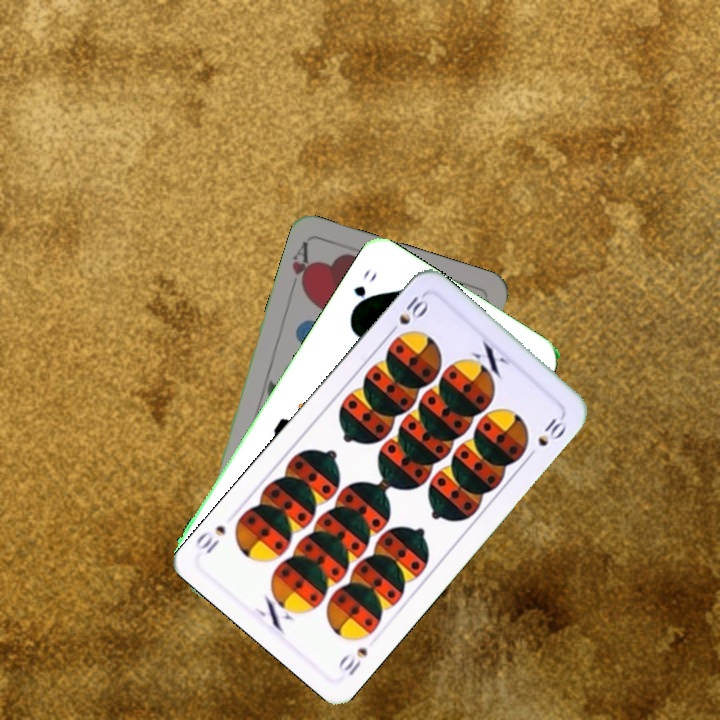GO: (347, 265, 380, 316)
HA: (287, 238, 315, 296)
S10: (384, 292, 431, 339), (334, 643, 370, 679)
